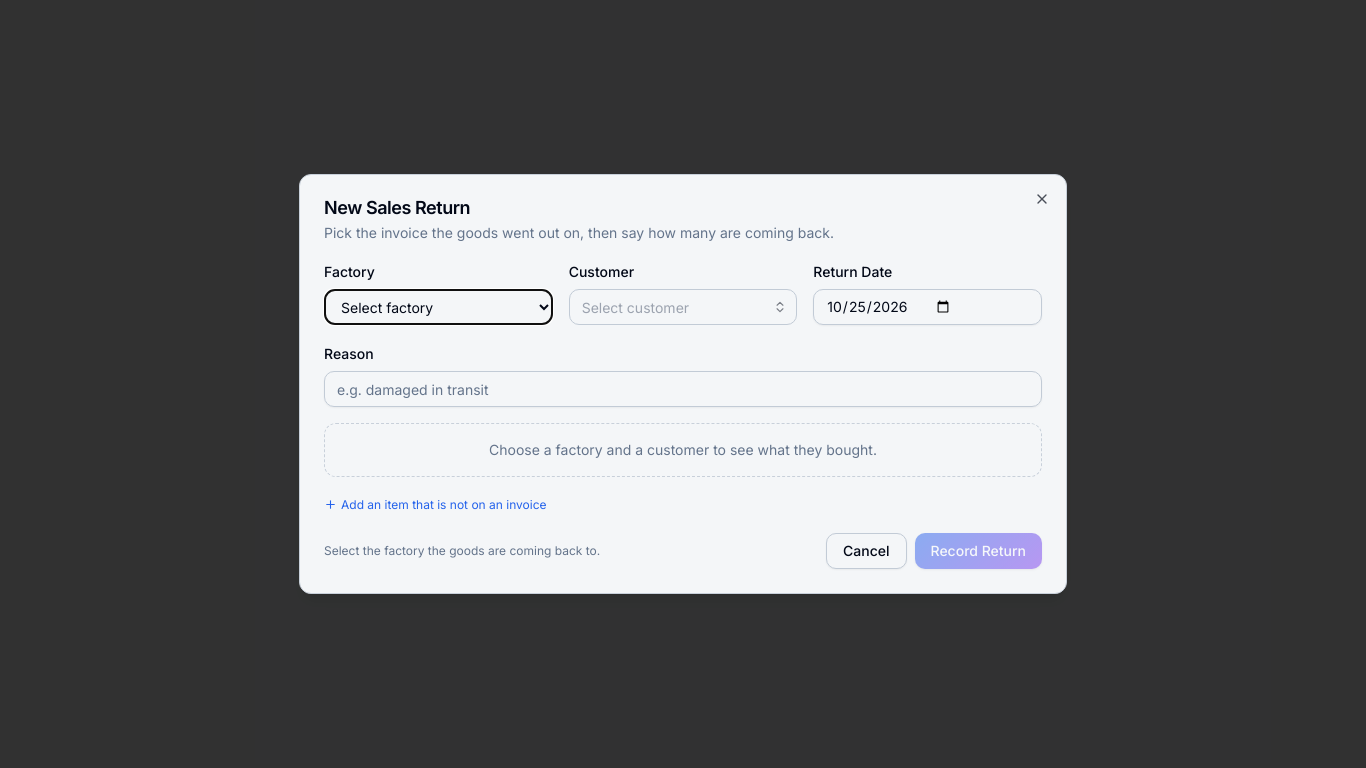
Test case: Recording a sales return › shows what the customer bought, with what is left to return
Step 1. Select "Bhubaneswar Plant" in the dropdown labelled "Factory" → (438, 307), box [324,289,553,325]
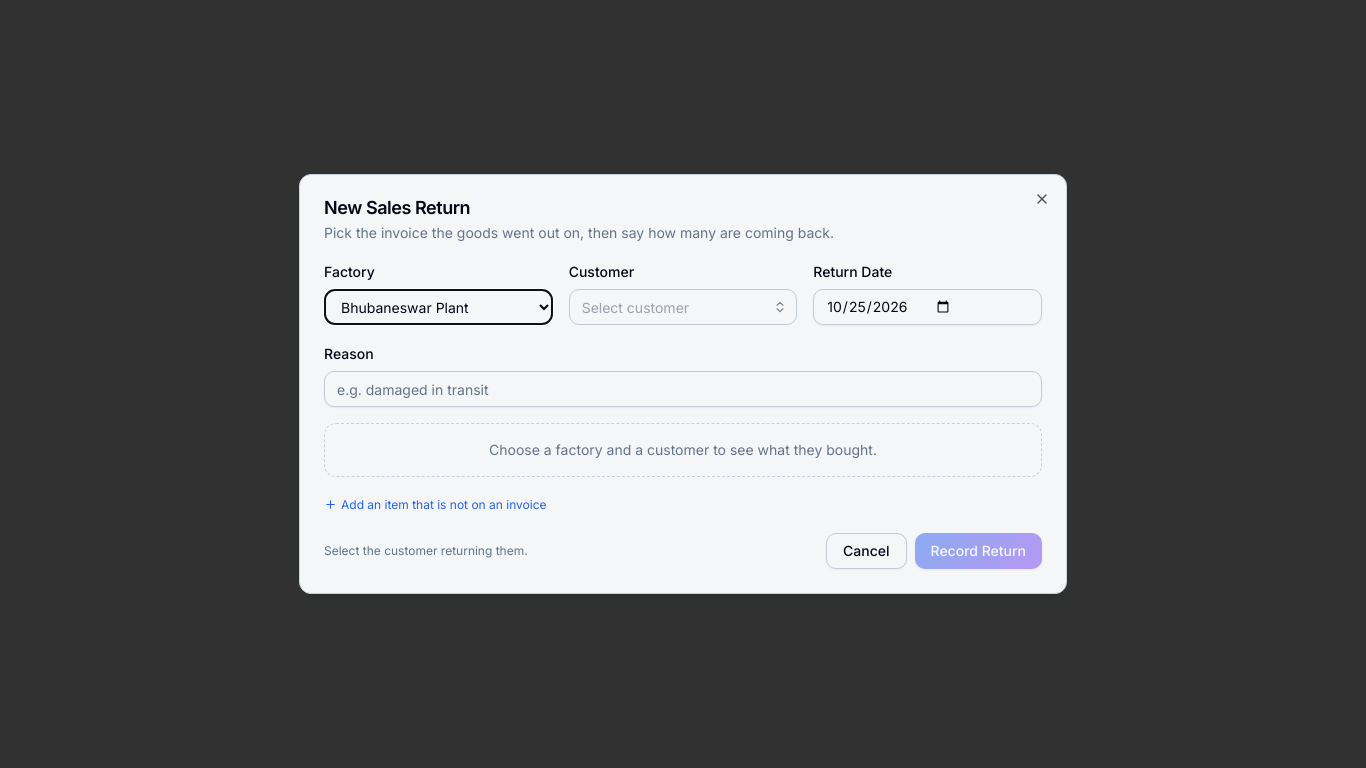
Step 2. Click the dropdown labelled "Customer" → (683, 307), box [569,289,797,325]
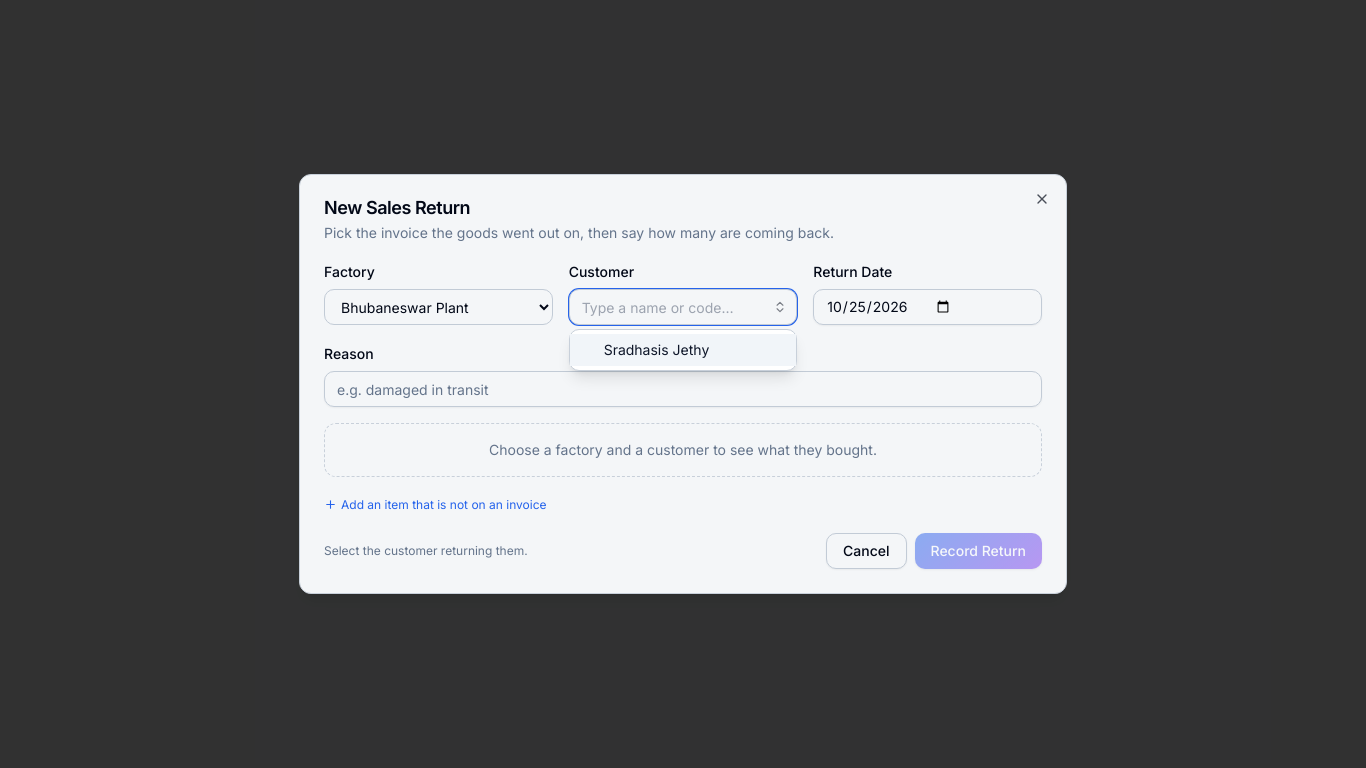
Step 3. Click the option "Sradhasis Jethy" → (683, 350), box [570,334,796,366]
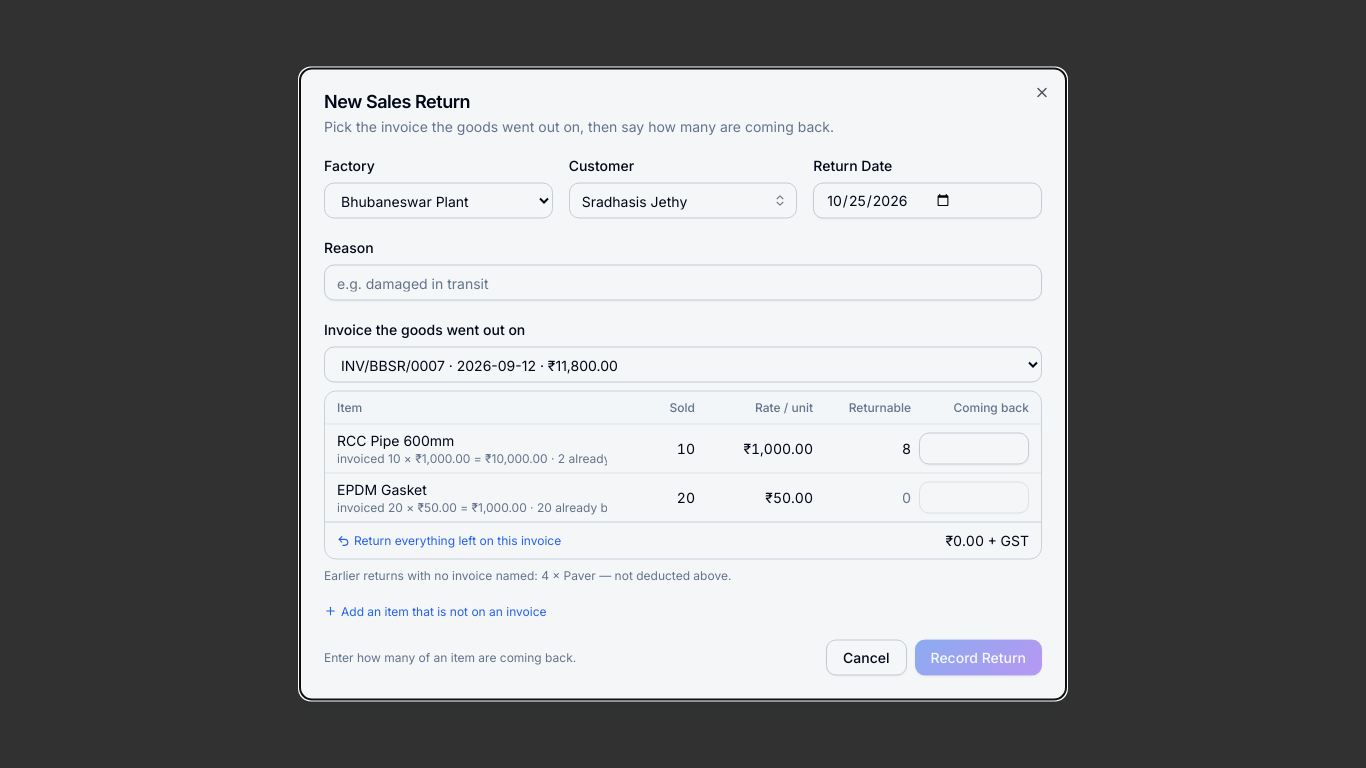
Expected: the text "10" is shown, [677,440,695,456]
Expected: the text "₹1,000.00" is shown, [743,440,813,456]
Expected: the text "8" is shown, [902,440,911,456]
